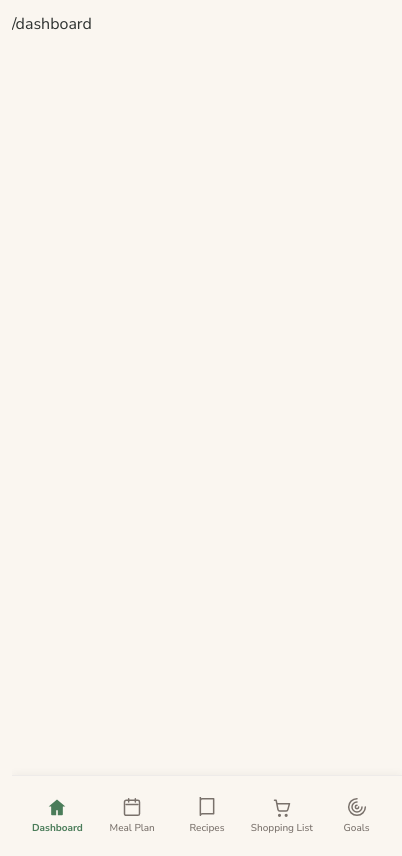
Scenario: BottomNavigation › navigates with keyboard-accessible links that expose focus and touch-target affordances
Click the link "Recipes" at coordinates (207, 816), box [190,796,224,834]
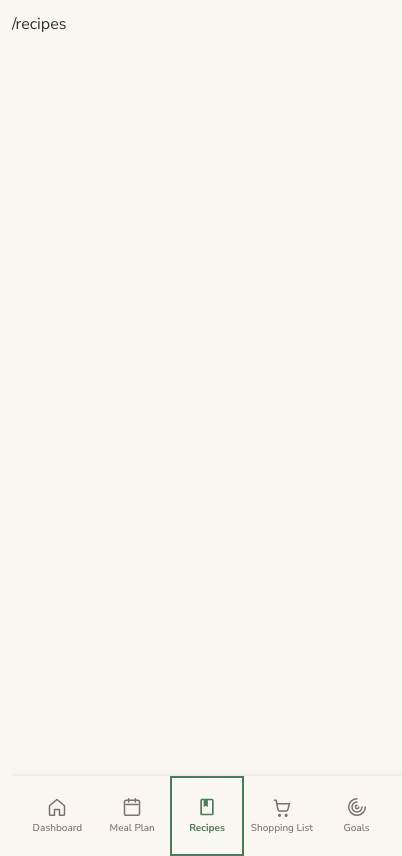
Check: the text named "Current path" reads "/recipes", box [12,13,66,35]
